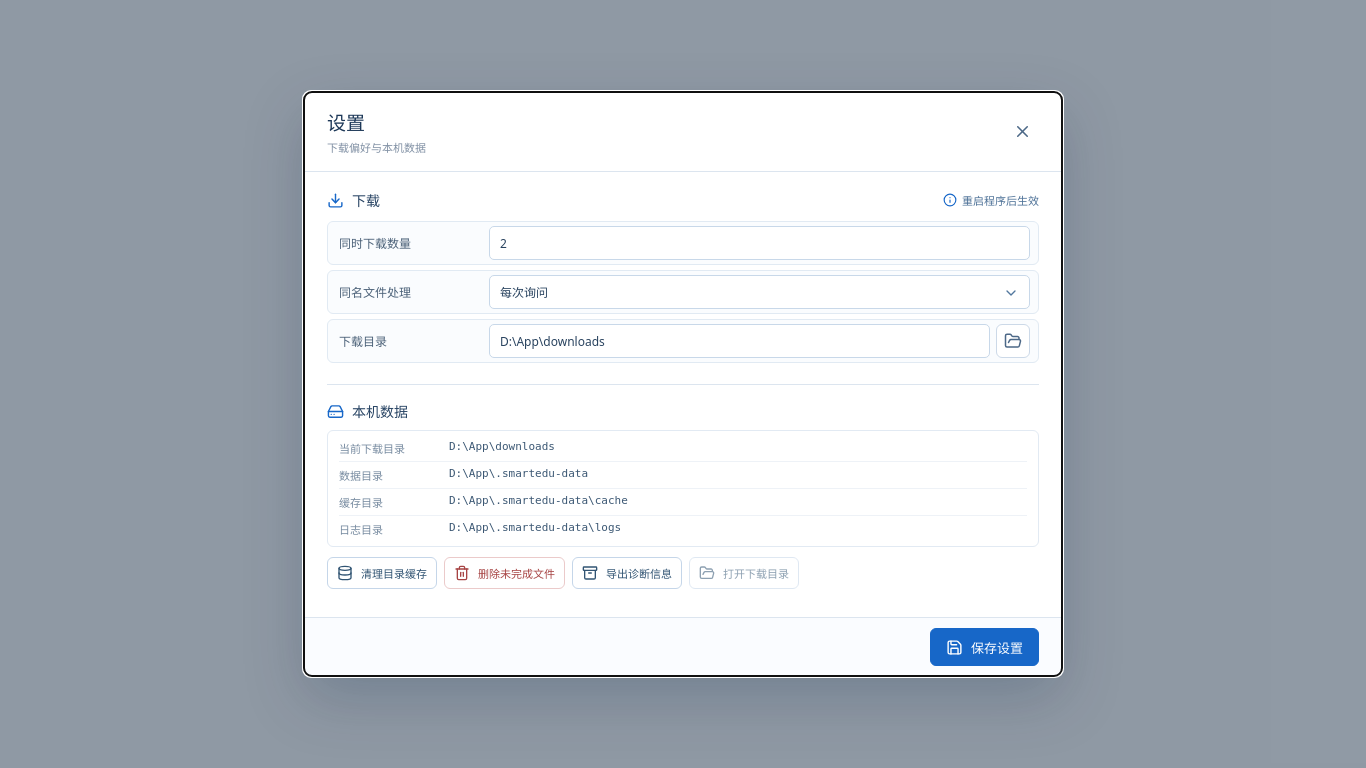
it: opens and selects a styled duplicate-file option
Step 1. Click the dropdown named "同名文件处理" → (524, 292), box [489,275,1030,309]
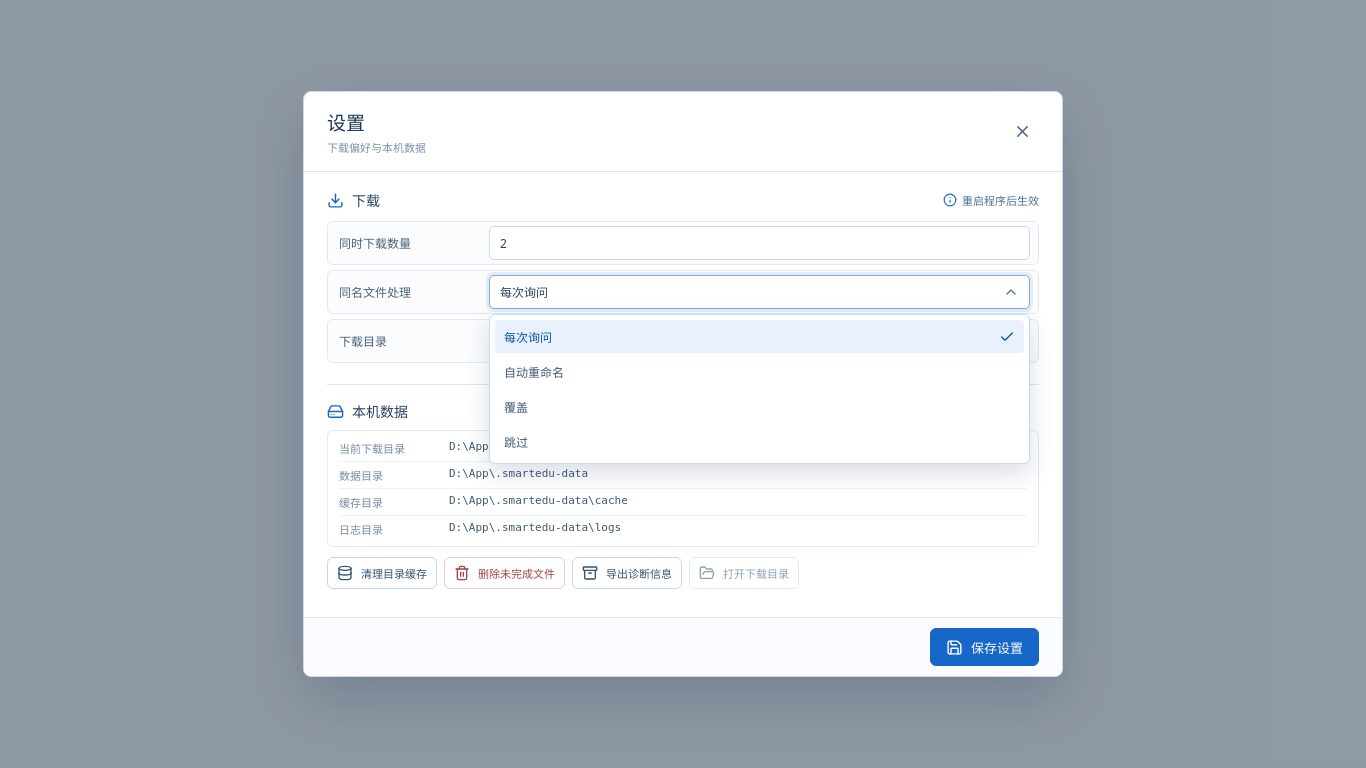
Check: the list named "同名文件处理" is shown, box [489,314,1030,464]
Check: the option "自动重命名" is shown
Step 2. Click the option "自动重命名" → (534, 372), box [495,355,1024,388]
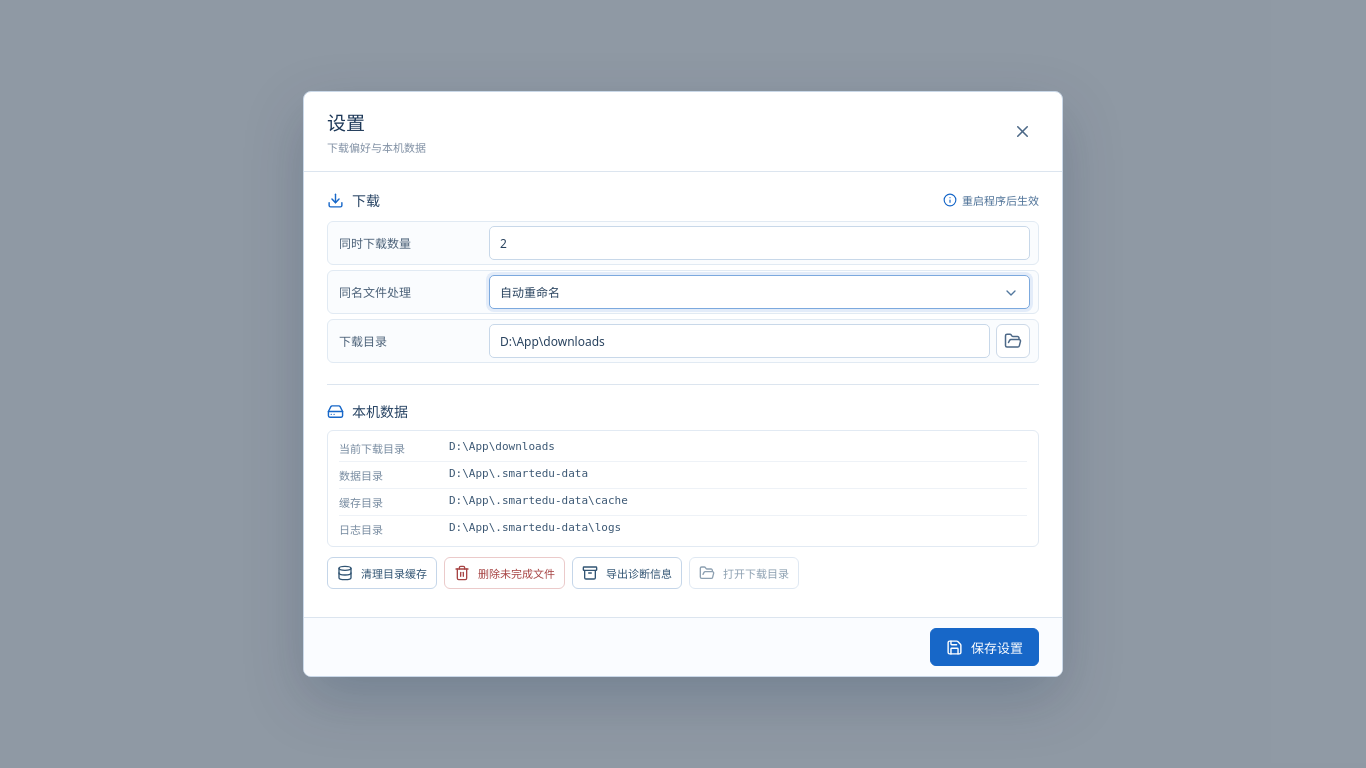
Check: the dropdown named "同名文件处理" reads "自动重命名", box [489,275,1030,309]
Check: the list "每次询问 自动重命名 覆盖 跳过" is gone
